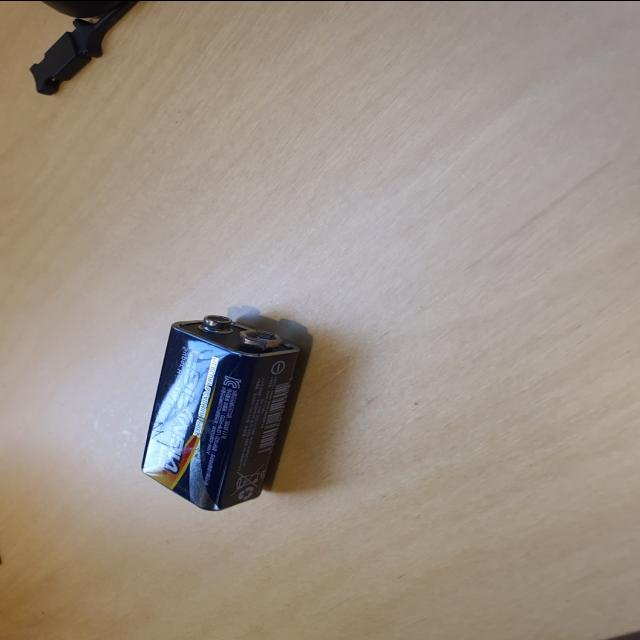battery-etc-etc: (128, 297, 324, 518)
